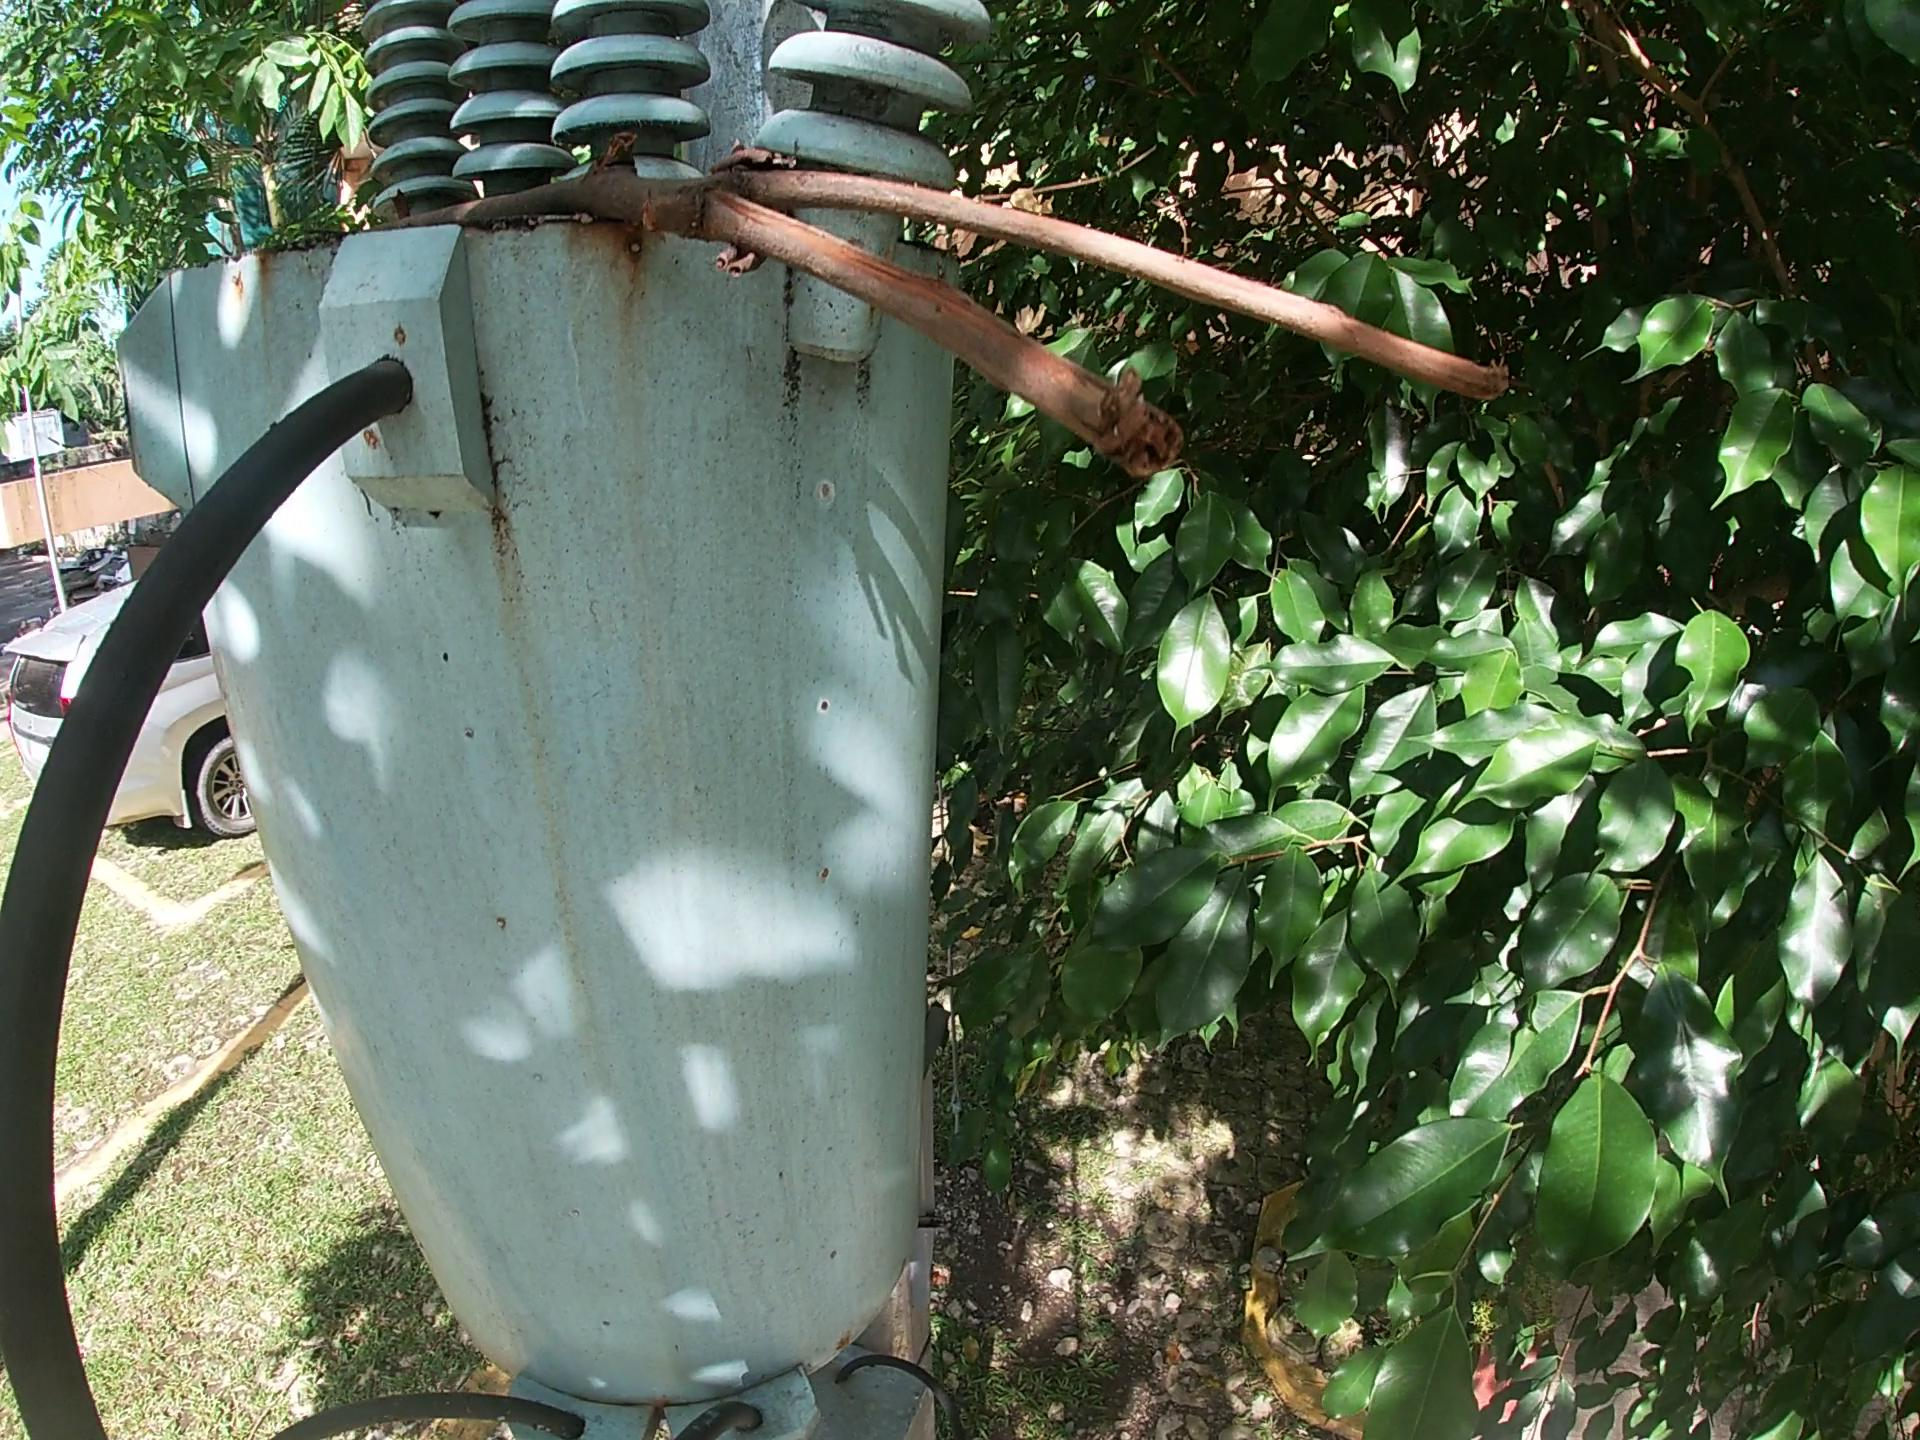tree branch: (348, 112, 1527, 490)
